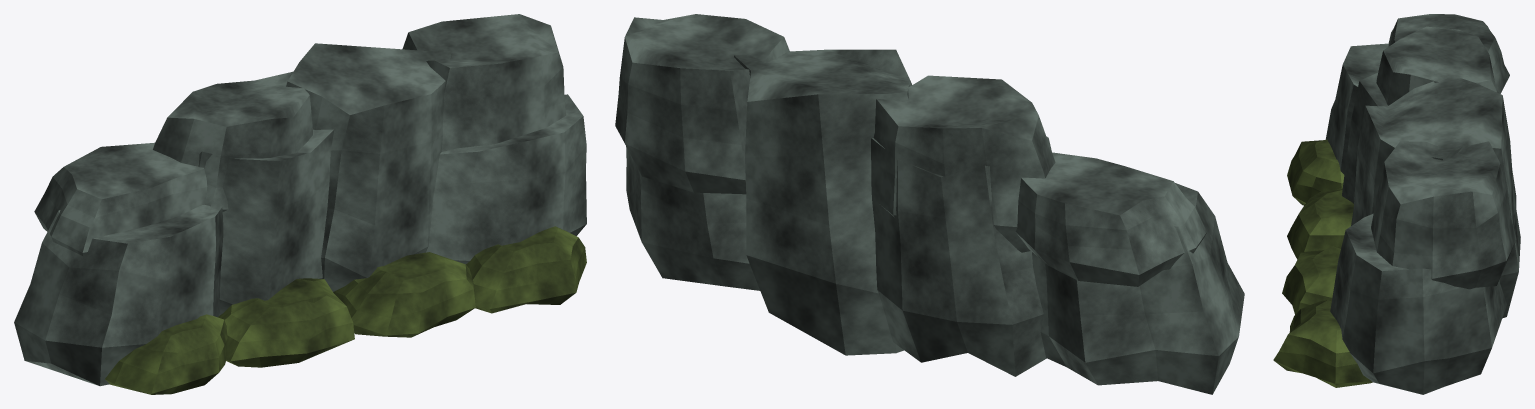
Rendered from cliff.glb.
3 renders of one model, left to right at view 1: azimuth 30°, elevation 25°; view 2: azimuth 150°, elevation 25°; view 3: azimuth 270°, elevation 25°, orthographic. The views are drawn at different scales.
Visible parts, largest first — view 1: cliff; view 2: cliff; view 3: cliff.
Boxes of the visible parts, <box> form: cliff: <box>14,14,586,394</box>; cliff: <box>615,14,1244,394</box>; cliff: <box>1273,14,1520,394</box>.
Size of the model in its own units: 8.47 by 3.37 by 3.39.
2 materials, 2 textured.
